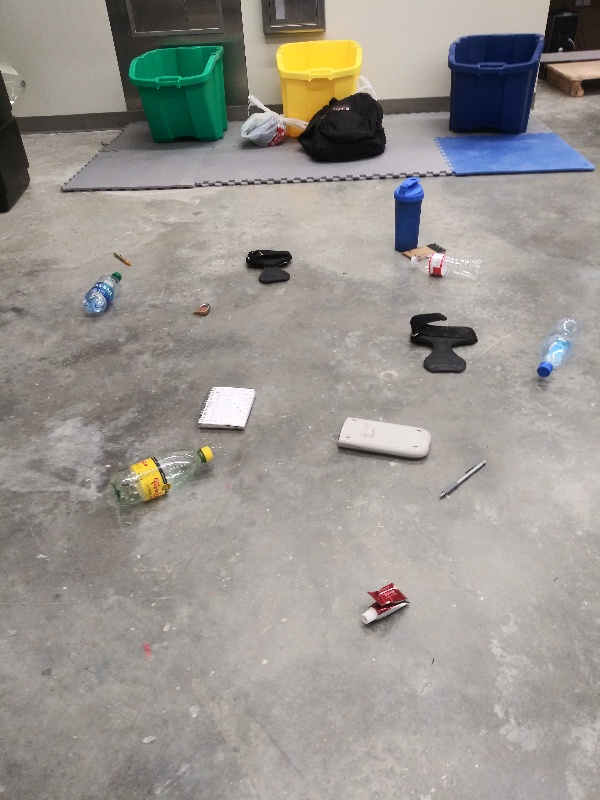bottle: (109, 443, 215, 508), (534, 313, 582, 378), (407, 251, 487, 282), (80, 267, 125, 316)
